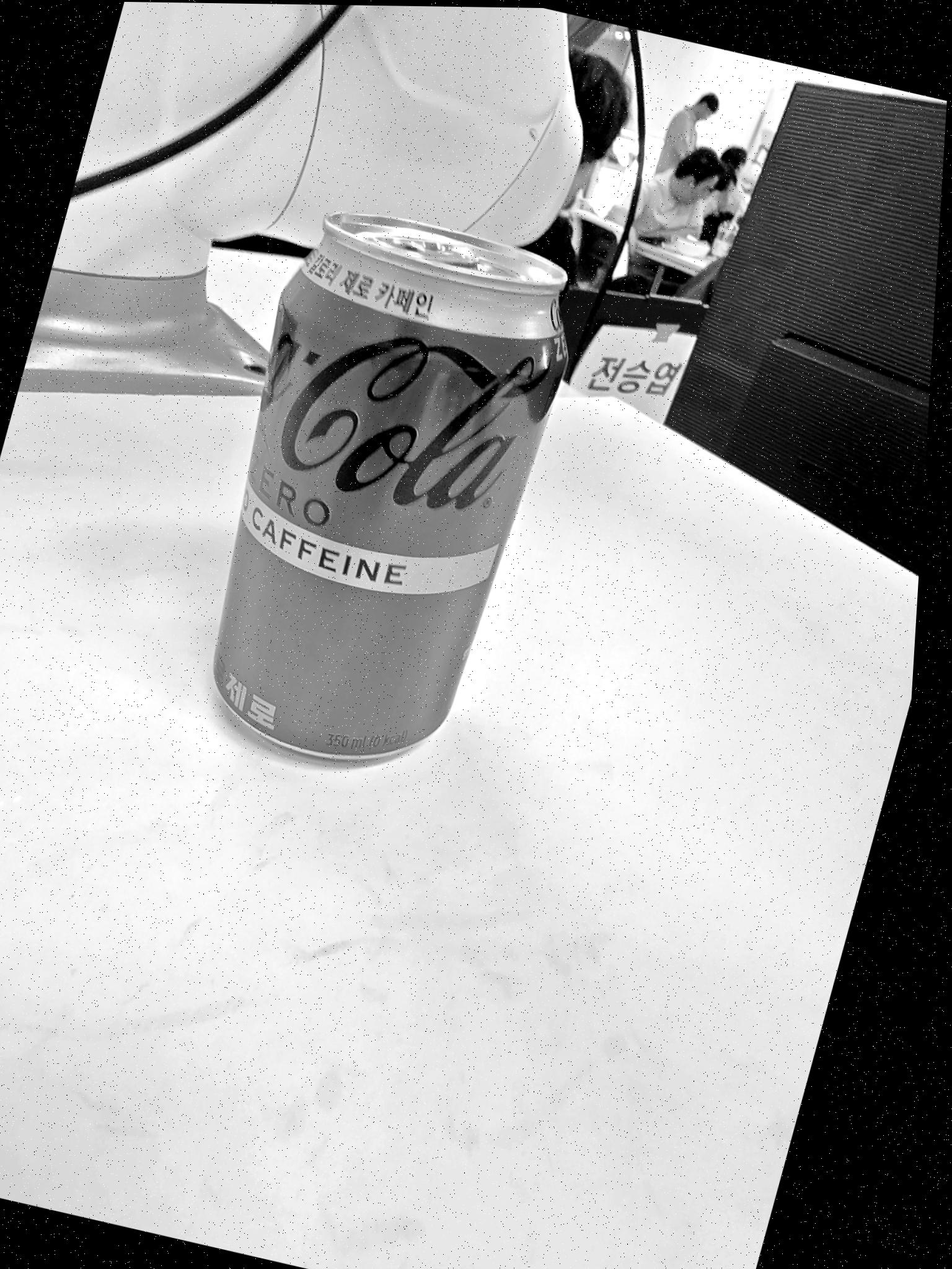can_coke_decaf: (214, 215, 567, 757)
